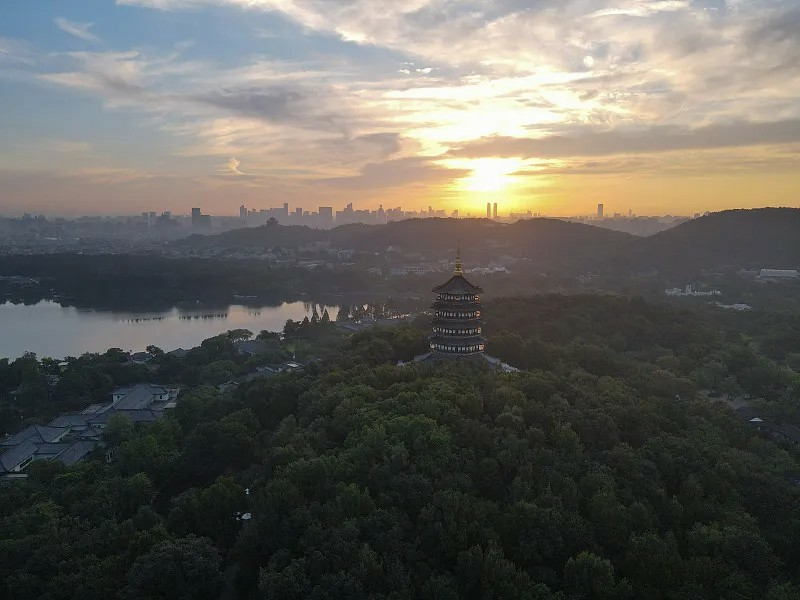Leifeng: (413, 240, 502, 377)
